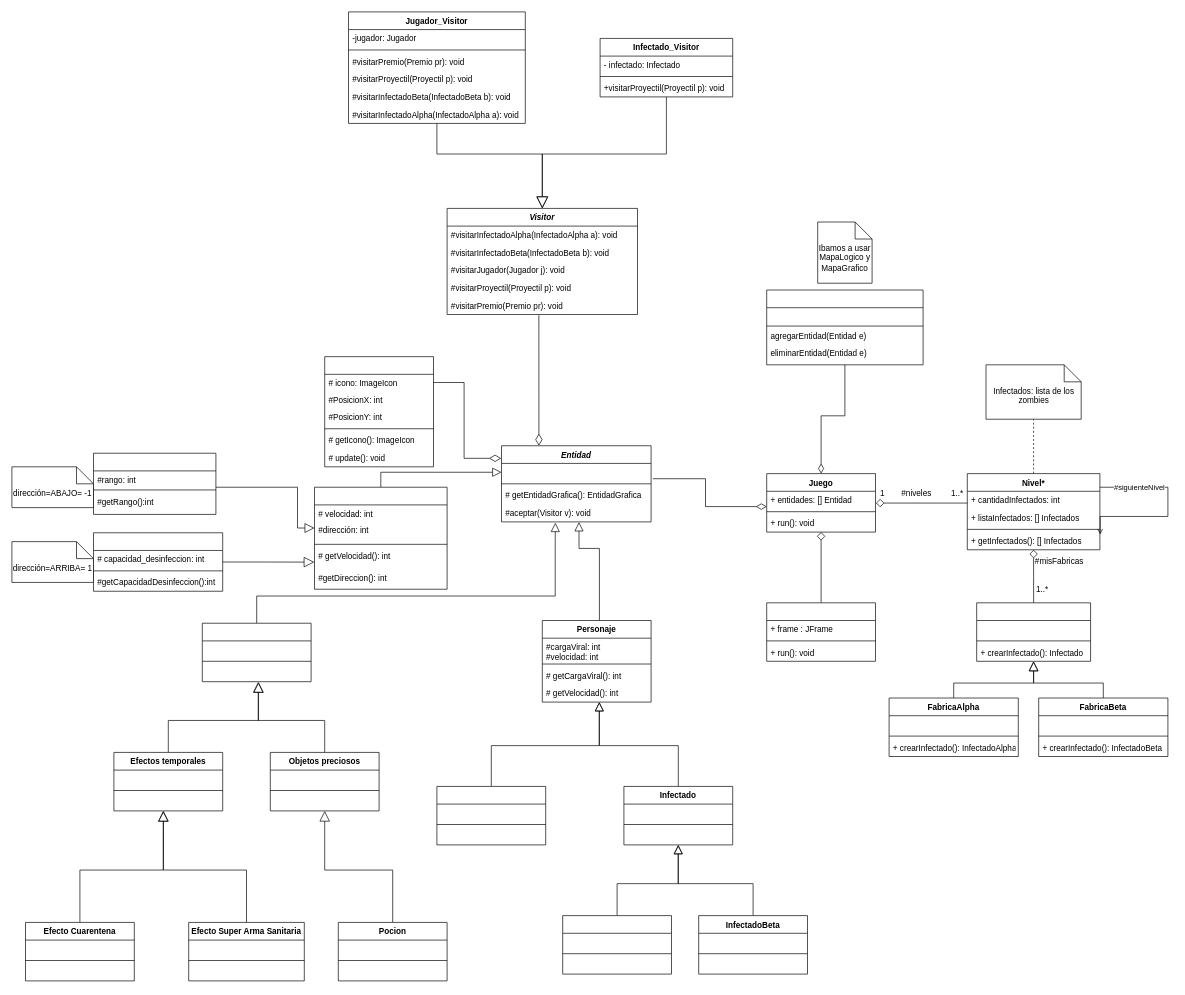
Some shapes in this 1185 by 995 pixel diagram are drawn without their labels. The shapes that lost their labels are listed below. From the top down, each one's box as (x1, y1, x2, y2) in pixels, then its label:
(766, 289, 923, 365): Mapa extends JLabel
(324, 356, 434, 467): EntidadGrafica
(93, 453, 216, 514): ProyectilInfectado
(314, 487, 447, 589): Proyectil
(93, 532, 223, 591): ProyectilJugador
(766, 602, 876, 661): GUI
(976, 602, 1091, 661): FabricaInfectado*
(202, 623, 311, 682): Premios
(436, 786, 546, 845): Jugador
(562, 915, 672, 974): InfectadoAlpha
